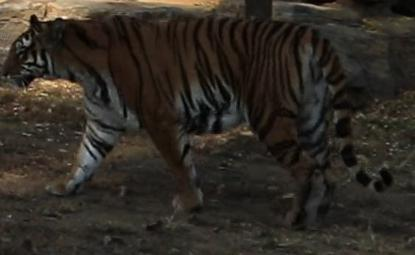tiger: (1, 12, 367, 222)
